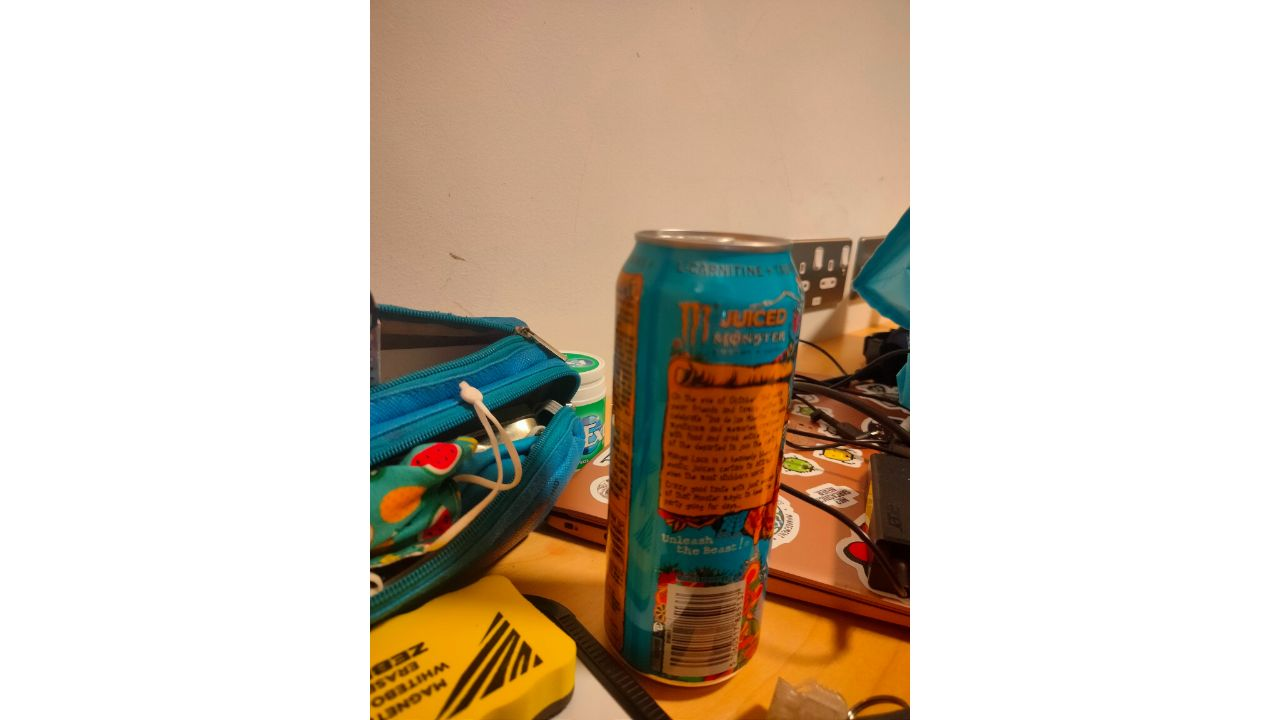Can: (602, 229, 808, 695)
